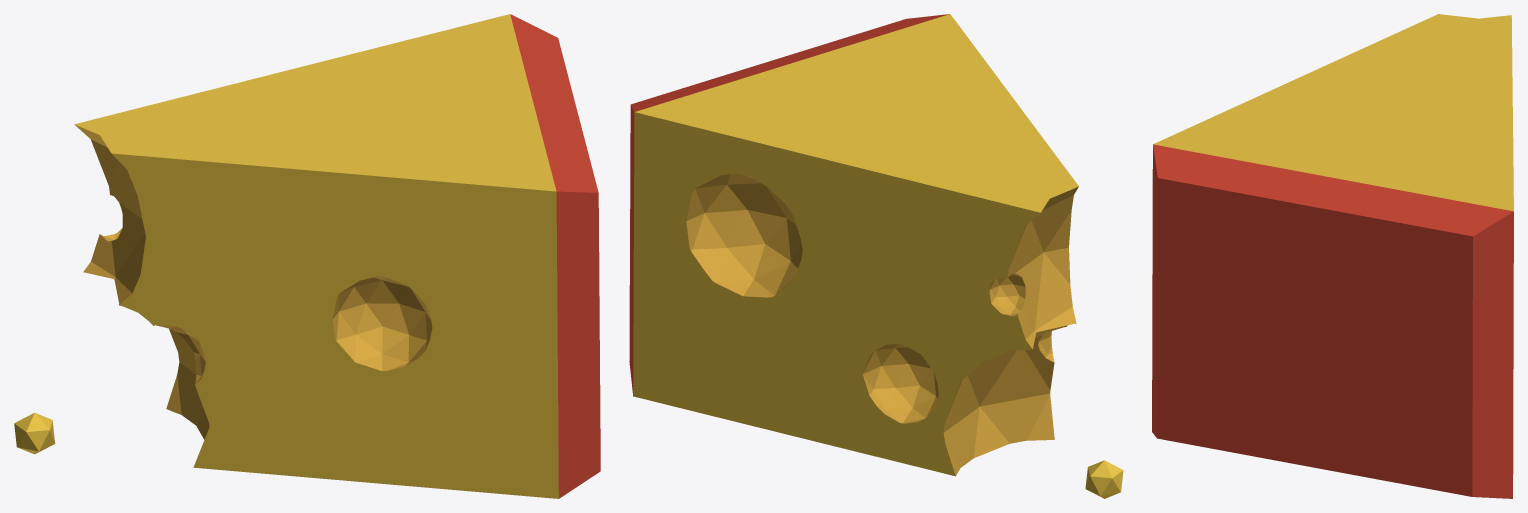
Rendered from Cheese (with 2 bites).fbx.
The picture shows the model from 3 angles, left to right: view 1: azimuth 30°, elevation 25°; view 2: azimuth 150°, elevation 25°; view 3: azimuth 270°, elevation 25°; orthographic projection. The views are drawn at different scales.
Visible parts, largest first — view 1: Cheese with 2 bites, Cheese crumb; view 2: Cheese with 2 bites, Cheese crumb; view 3: Cheese with 2 bites.
Boxes of the visible parts, box(x1,y1,x2,y2) form: Cheese with 2 bites: box(74, 14, 600, 498); Cheese crumb: box(14, 412, 55, 454); Cheese with 2 bites: box(629, 14, 1078, 476); Cheese crumb: box(1085, 460, 1123, 498); Cheese with 2 bites: box(1152, 14, 1513, 498).
Size of the model in its own units: 365 by 201 by 229.
2 materials, 2 textured.
